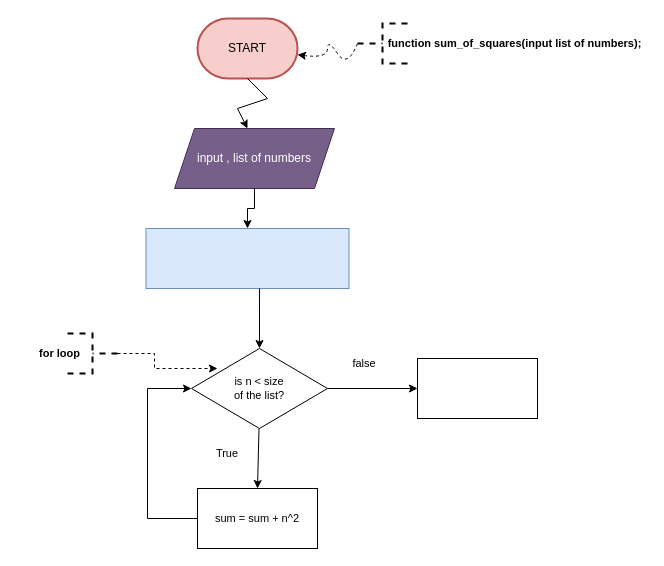
The diagram is 664 pixels wide and 566 high, and some of its shapes have lost their labels. Here are the shapes that lost their labels. From the top down, the centre of each, then its label:
At pixel 247 258: "initialize sum , size of list of numbers".
At pixel 477 388: "return the sum of squares (return sum)".
